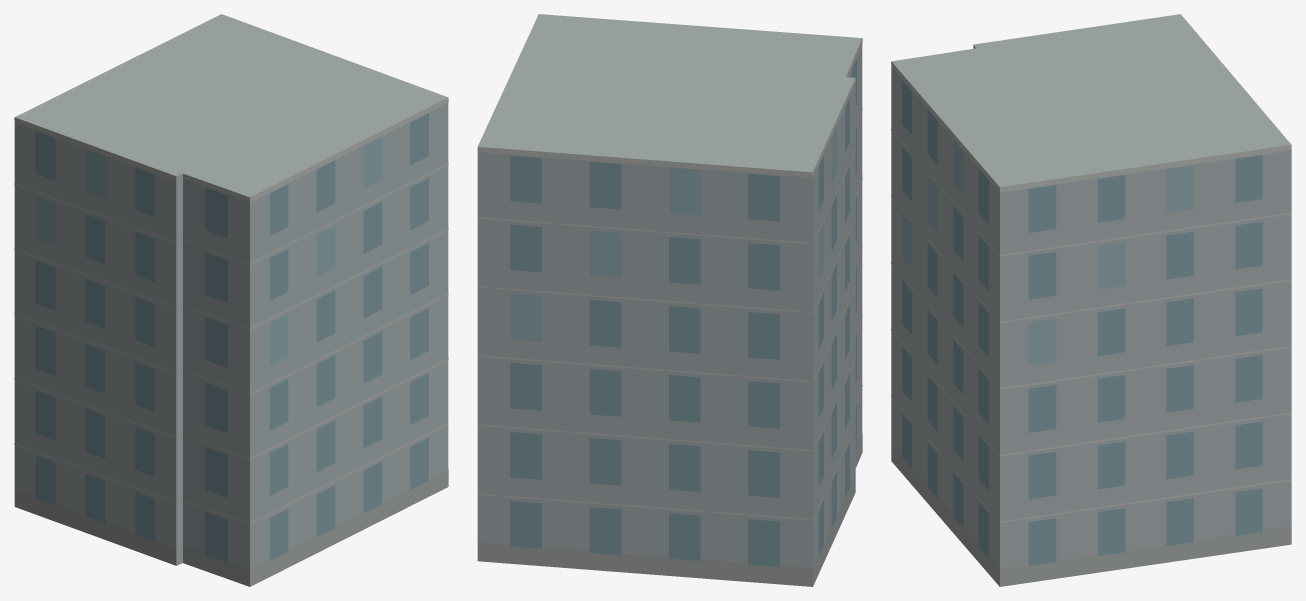
File: survey-upis-32812823.glb
The picture shows the model from 3 angles, left to right: view 1: azimuth 30°, elevation 25°; view 2: azimuth 150°, elevation 25°; view 3: azimuth 270°, elevation 25°; orthographic projection. The views are drawn at different scales.
Parts seen in each view (by area): view 1: survey-upis-32812823.tmp; view 2: survey-upis-32812823.tmp; view 3: survey-upis-32812823.tmp.
Boxes of the visible parts, <box> form: survey-upis-32812823.tmp: <box>14,14,448,586</box>; survey-upis-32812823.tmp: <box>477,14,862,586</box>; survey-upis-32812823.tmp: <box>891,14,1291,586</box>.
Size of the model in its own units: 16.56 by 17.8 by 16.17.
